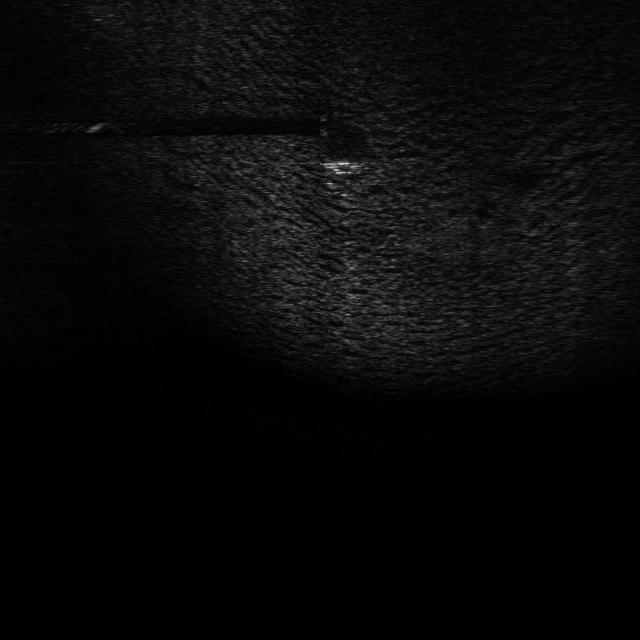plane: (321, 154, 363, 177)
